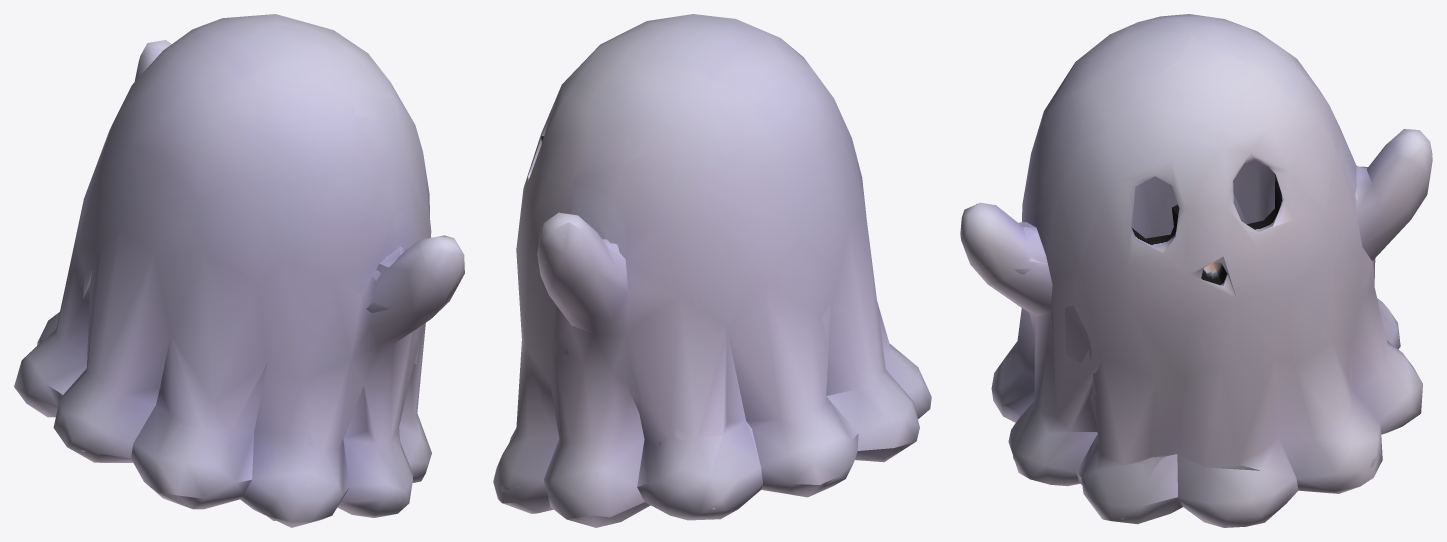
Rendered from E6_Boo_LOD2.fbx.
3 renders of one model, left to right at view 1: azimuth 30°, elevation 25°; view 2: azimuth 150°, elevation 25°; view 3: azimuth 270°, elevation 25°, orthographic. The views are drawn at different scales.
Visible parts, largest first — view 1: E6_Boo_LOD2; view 2: E6_Boo_LOD2; view 3: E6_Boo_LOD2.
Part boxes in pixels (x1,y1,x2,y2): E6_Boo_LOD2: [14, 14, 464, 527]; E6_Boo_LOD2: [493, 14, 931, 527]; E6_Boo_LOD2: [960, 14, 1432, 527].
Bounding box in the file's own units: 0.1644 × 0.2007 × 0.194.
Materials: 1 (1 with a texture image).
